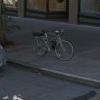Bicycle: (28, 26, 80, 63)
